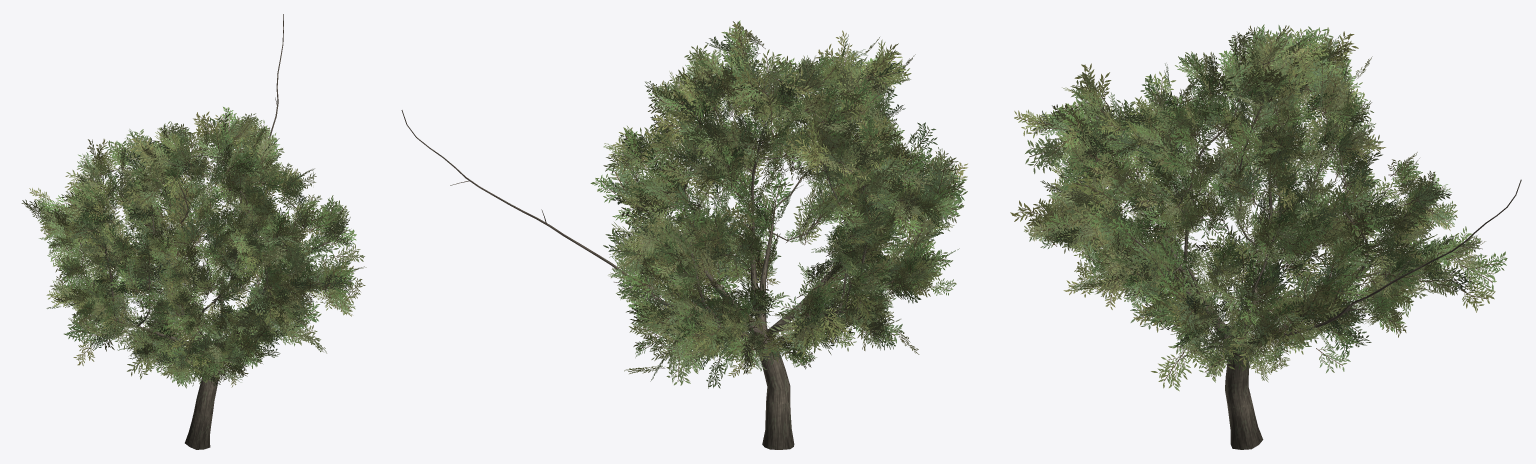
The model's file is vrba_stredni.glb.
3 views of the same model, side by side, from view 1: azimuth 30°, elevation 25°; view 2: azimuth 150°, elevation 25°; view 3: azimuth 270°, elevation 25° (orthographic). The views are drawn at different scales.
Visible parts, largest first — view 1: vrba_stredni; view 2: vrba_stredni; view 3: vrba_stredni.
Boxes of the visible parts, x1,y1,x2,y2 form: vrba_stredni: (21, 14, 366, 449); vrba_stredni: (401, 20, 967, 449); vrba_stredni: (1010, 24, 1521, 449).
Size of the model in its own units: 13.37 by 12.08 by 13.67.
2 materials, 2 textured.
